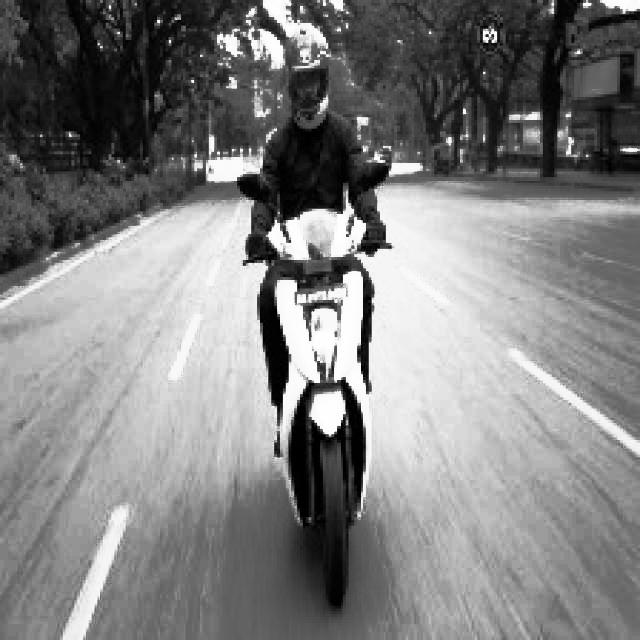Bike: (252, 194, 386, 600)
